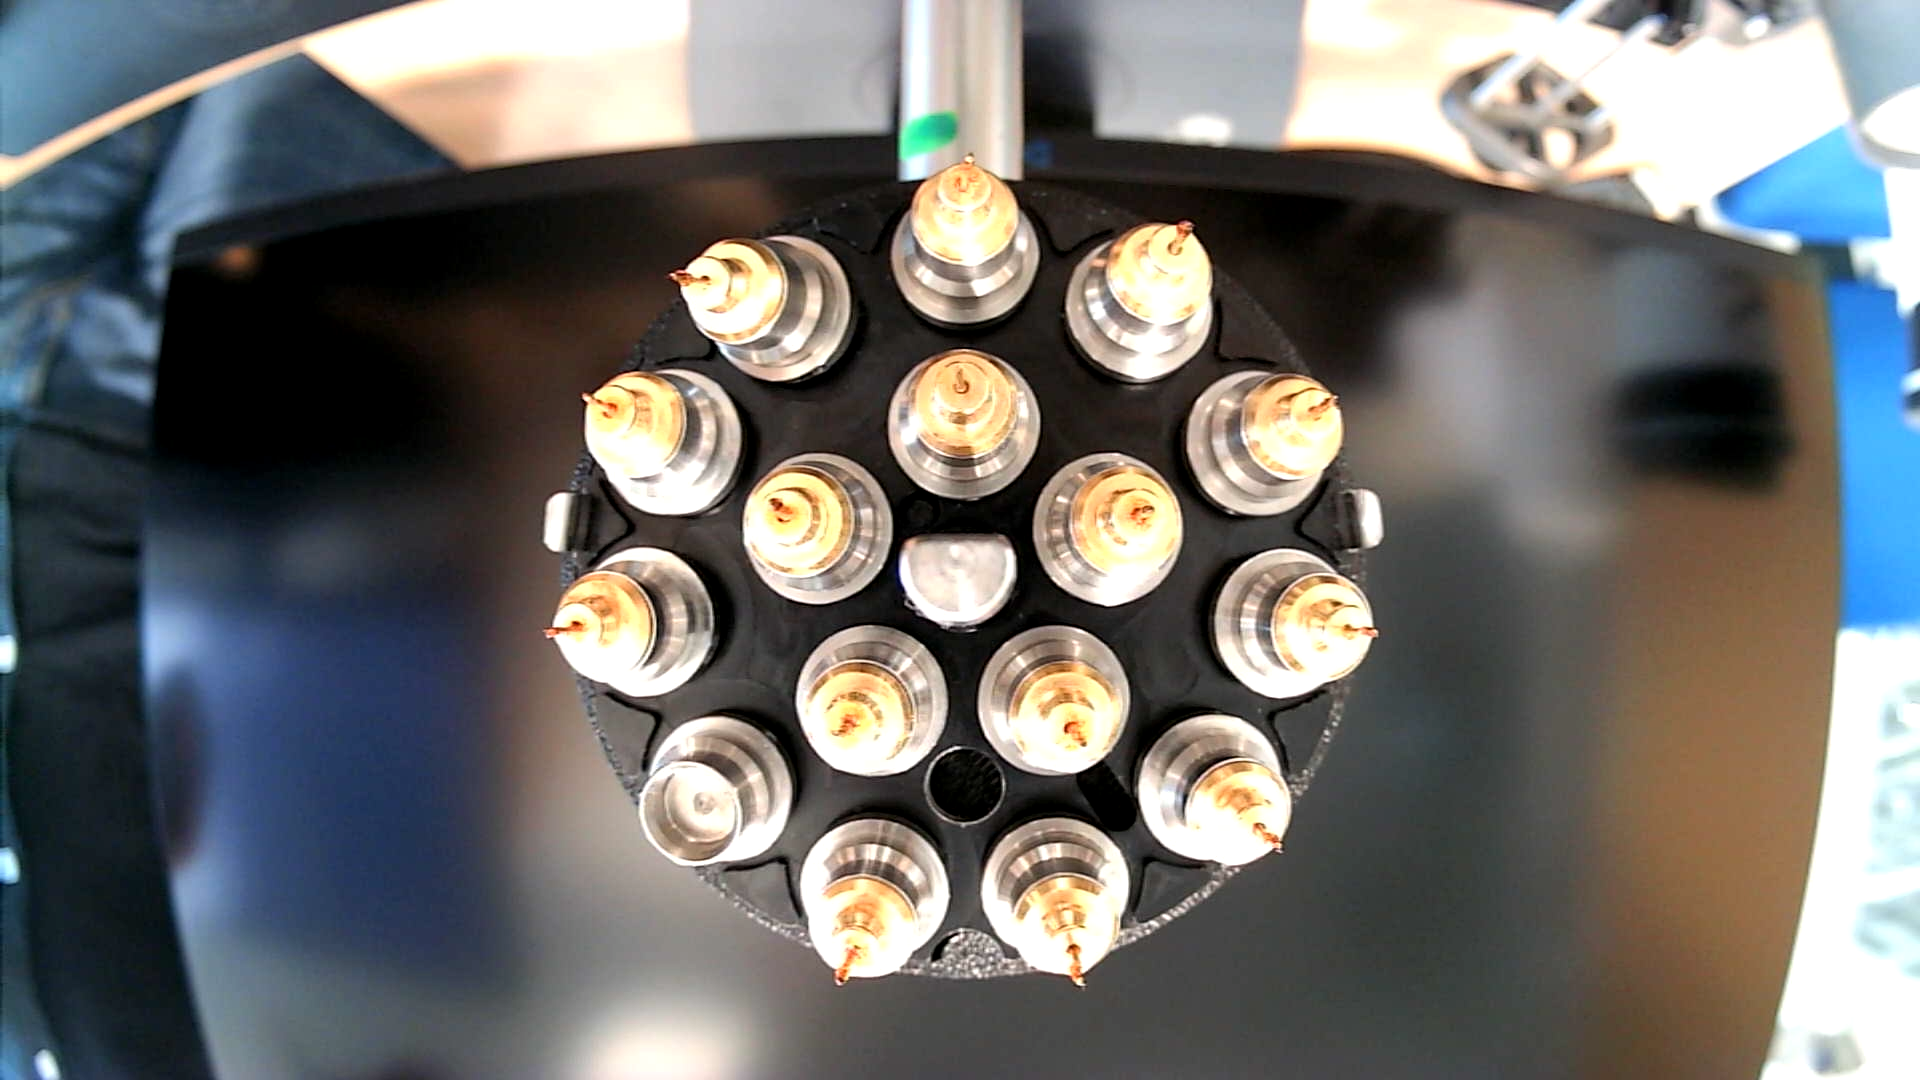adapter: (634, 713, 793, 872)
hole: (920, 742, 1009, 831)
misplaced: (663, 232, 853, 384)
pin: (538, 542, 723, 700), (795, 812, 951, 992), (977, 810, 1130, 992), (886, 152, 1039, 328), (1205, 542, 1377, 699), (571, 372, 740, 530), (1135, 709, 1298, 869), (1060, 208, 1211, 380), (884, 345, 1044, 502), (791, 624, 949, 781), (1030, 448, 1184, 608), (977, 617, 1133, 774), (738, 451, 895, 607), (1184, 365, 1342, 520)
rod: (891, 527, 1021, 630)
